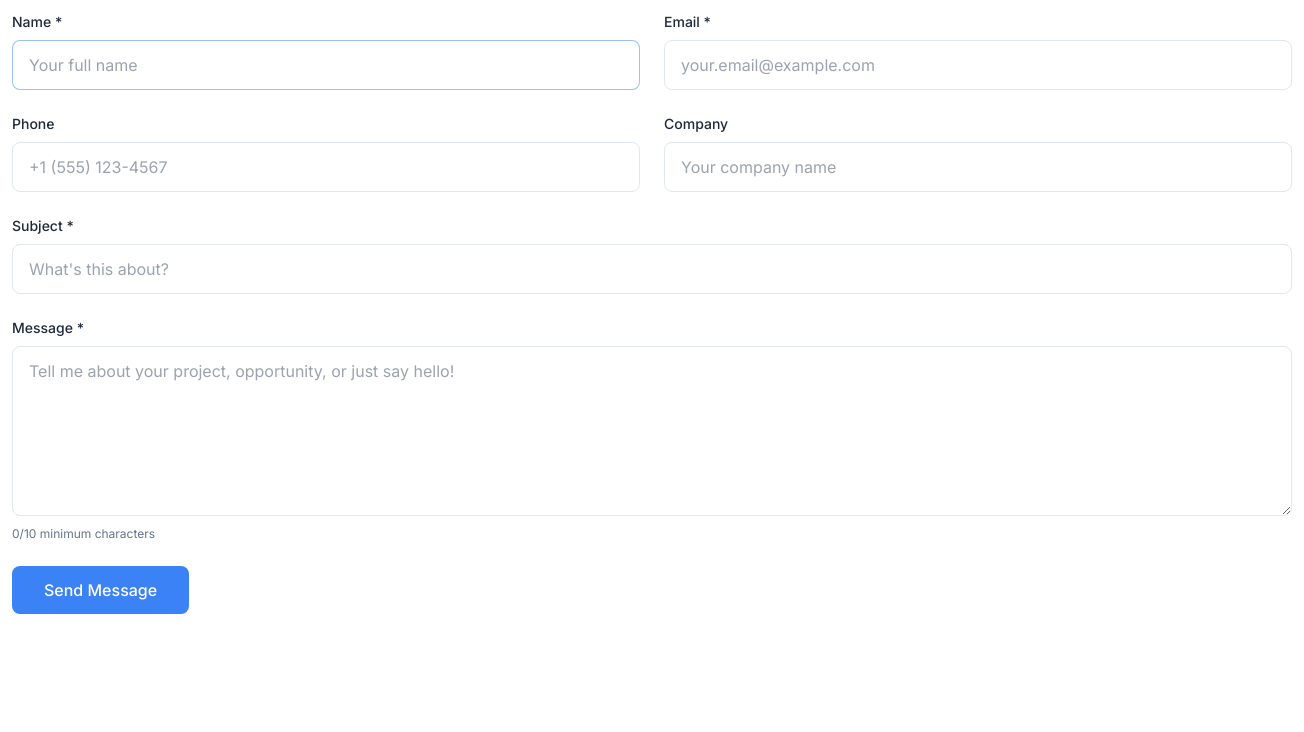
Test case: ContactForm › Form Submission › shows success message after successful submission
This screenshot has width=1304, height=732.
// Fill form
Type "John Doe" into the field labelled "Name *" at (326,65), box [12, 40, 640, 90]
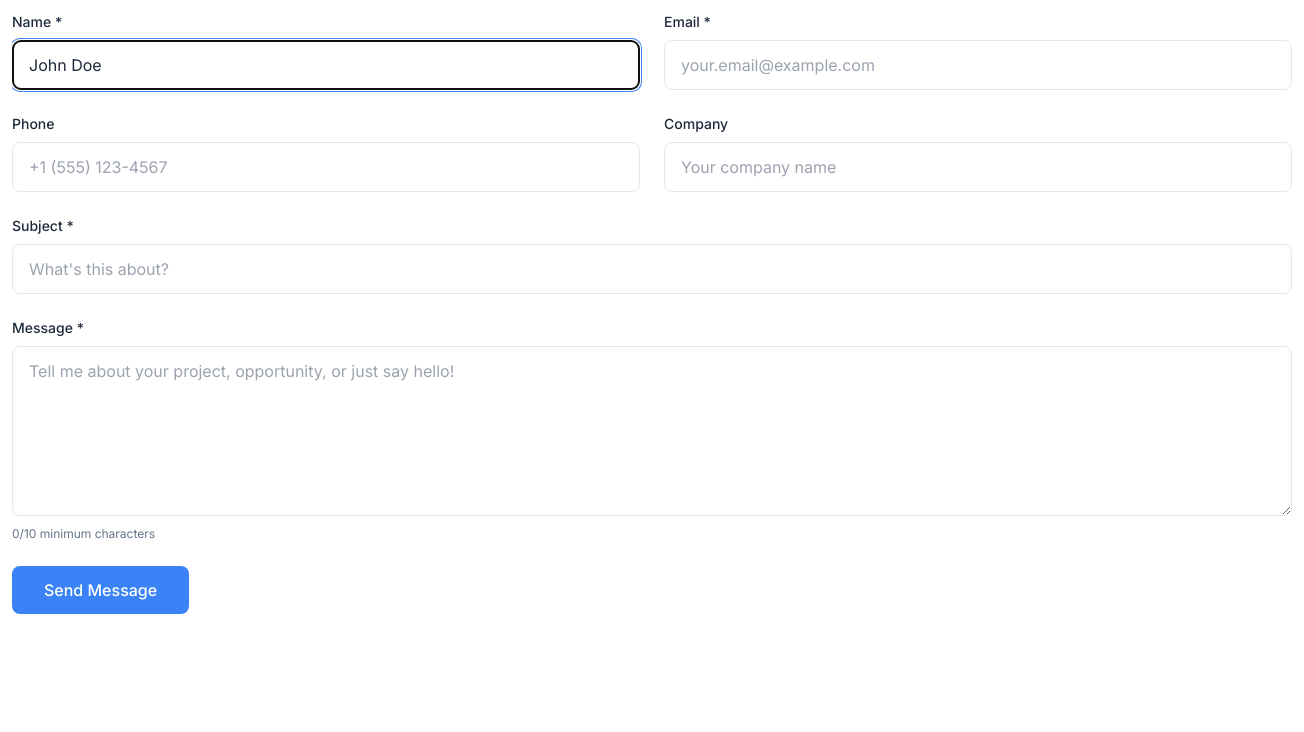
Type "john@example.com" into the field labelled "Email *" at (978,65), box [664, 40, 1292, 90]
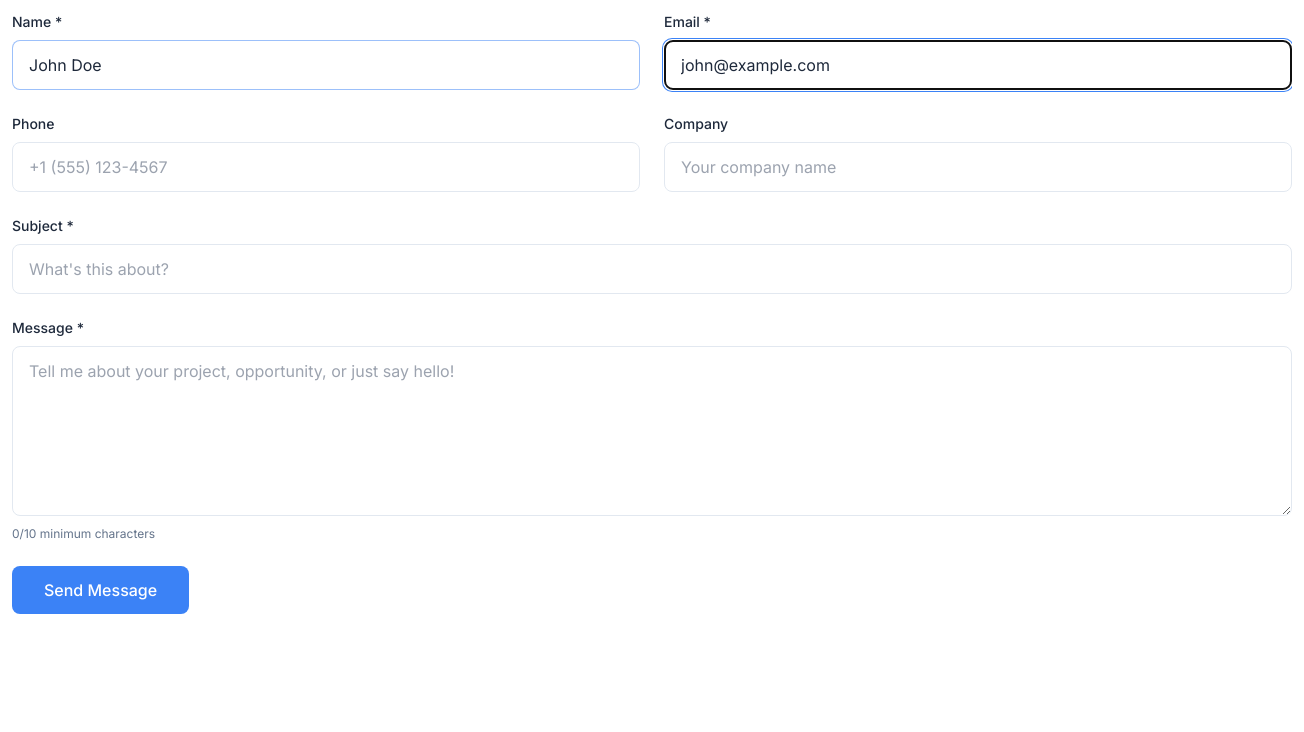
Type "Test Subject" into the field labelled "Subject *" at (652,269), box [12, 244, 1292, 294]
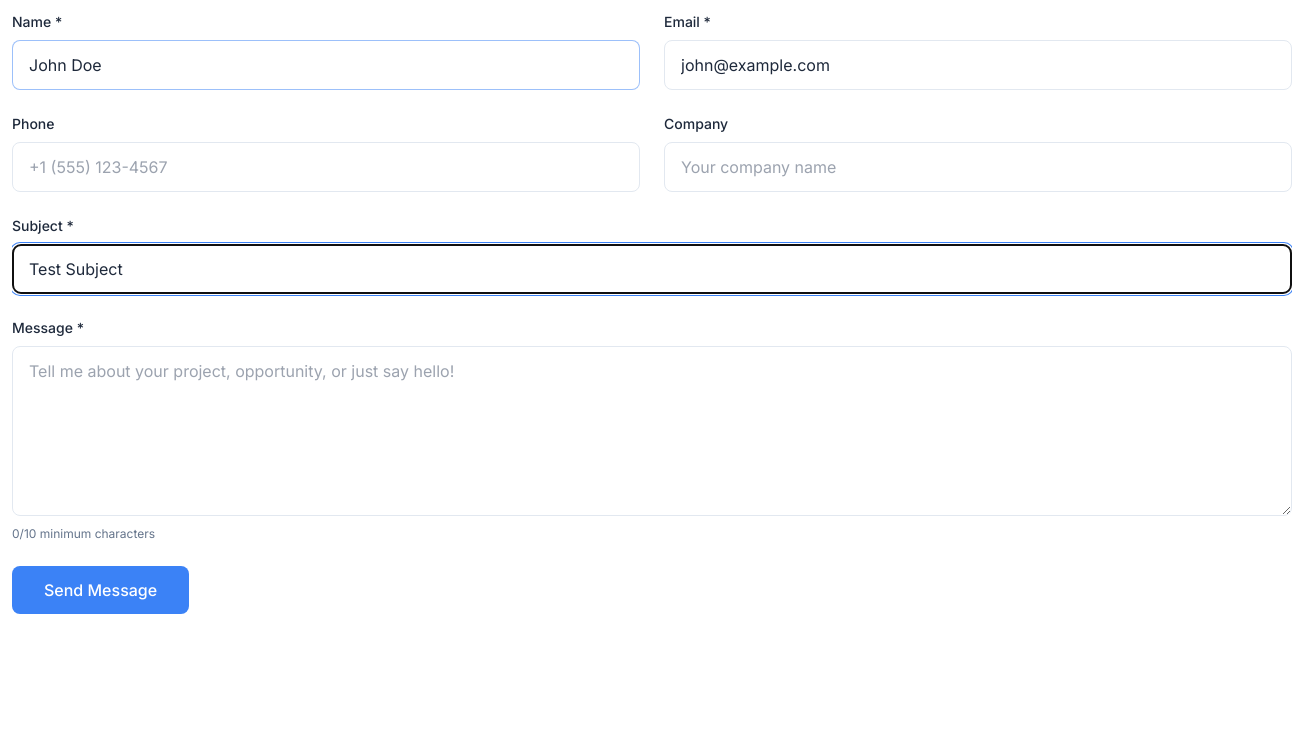
Type "This is a test message" into the text box labelled "Message *" at (652,431), box [12, 346, 1292, 516]
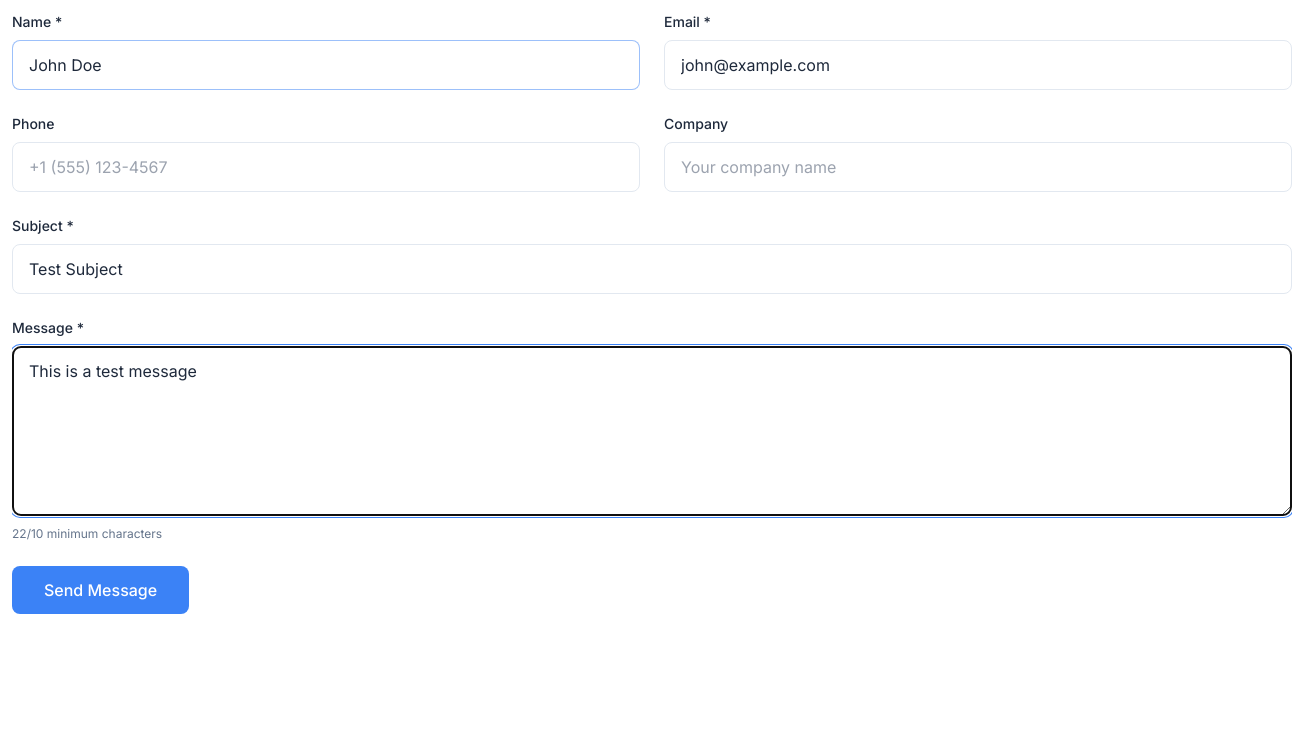
Click the button "Send Message" at (101,590), box [12, 566, 189, 614]
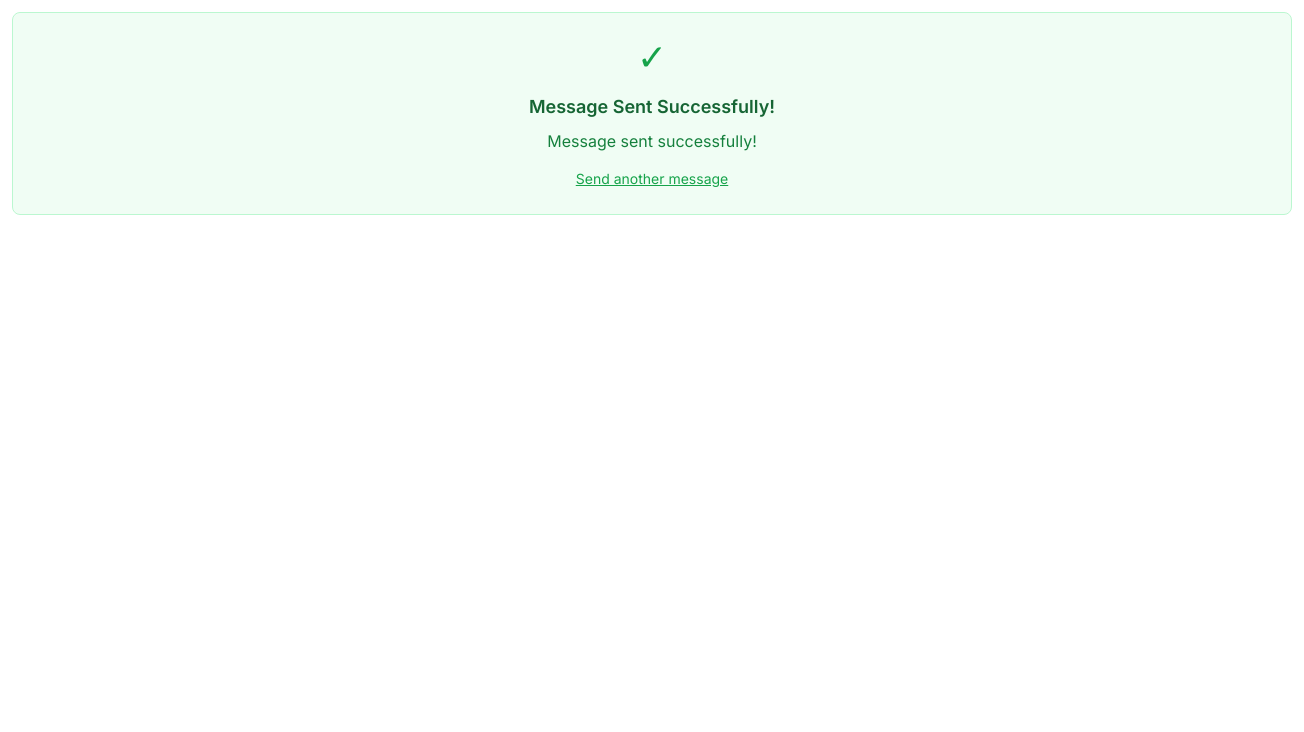
expect the heading "Message Sent Successfully!" is shown: met, box [529, 96, 775, 117]
expect the text "Message sent successfully!" is shown: met, box [547, 131, 757, 151]
